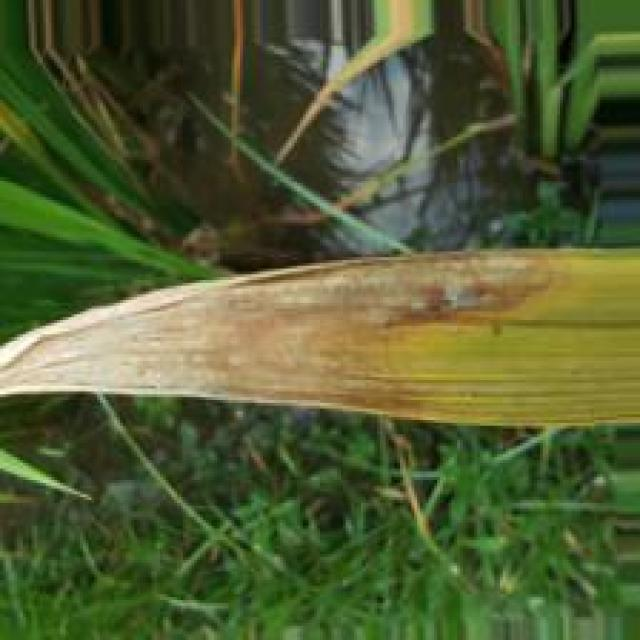Leaf_Scald: (0, 252, 580, 419)
